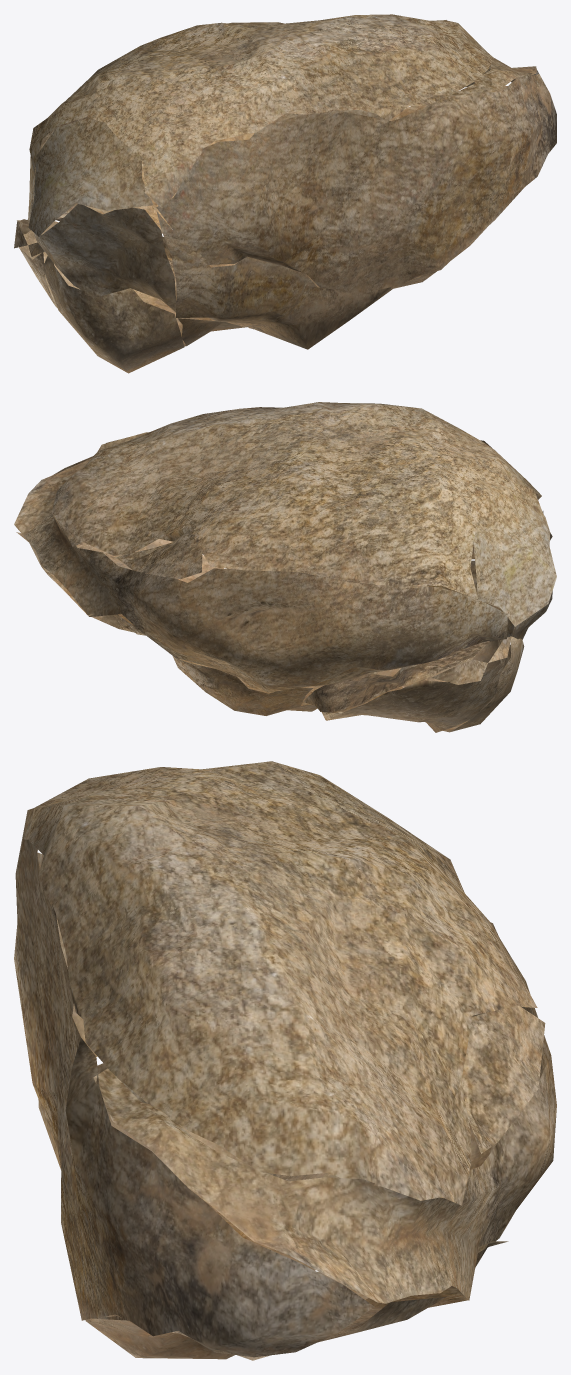
File: rock_4.glb
3 renders of one model, top to bottom at view 1: azimuth 30°, elevation 25°; view 2: azimuth 150°, elevation 25°; view 3: azimuth 270°, elevation 25°, orthographic. The views are drawn at different scales.
Visible parts, largest first — view 1: Rock4; view 2: Rock4; view 3: Rock4.
Part boxes in pixels (box(x1,y1,x2,y2)): Rock4: box(14, 14, 556, 373); Rock4: box(14, 402, 556, 732); Rock4: box(14, 761, 556, 1360).
Size of the model in its own units: 0.997 by 0.5387 by 0.5407.
1 material, 1 textured.
